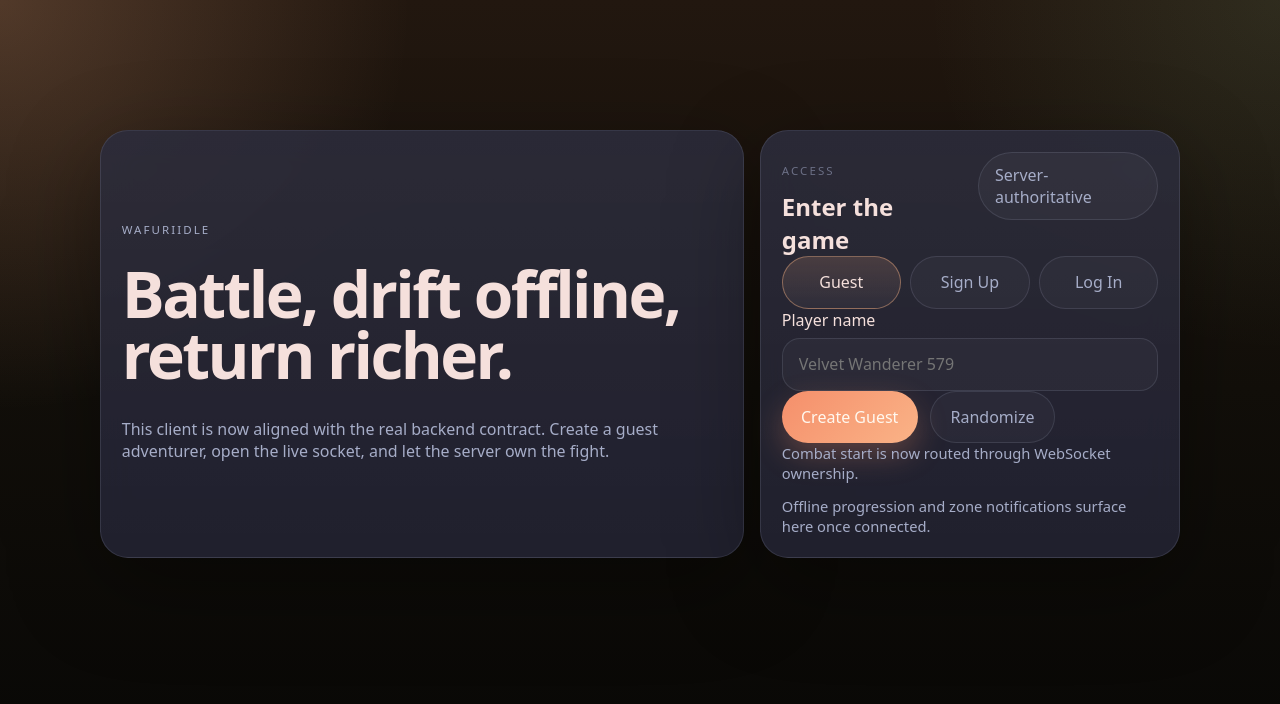
CombatScreen › shows standardized inventory empty and gacha insufficient-gold states
Type "Scout" into the field labelled "Player name" at (970, 364), box [782,338,1158,391]
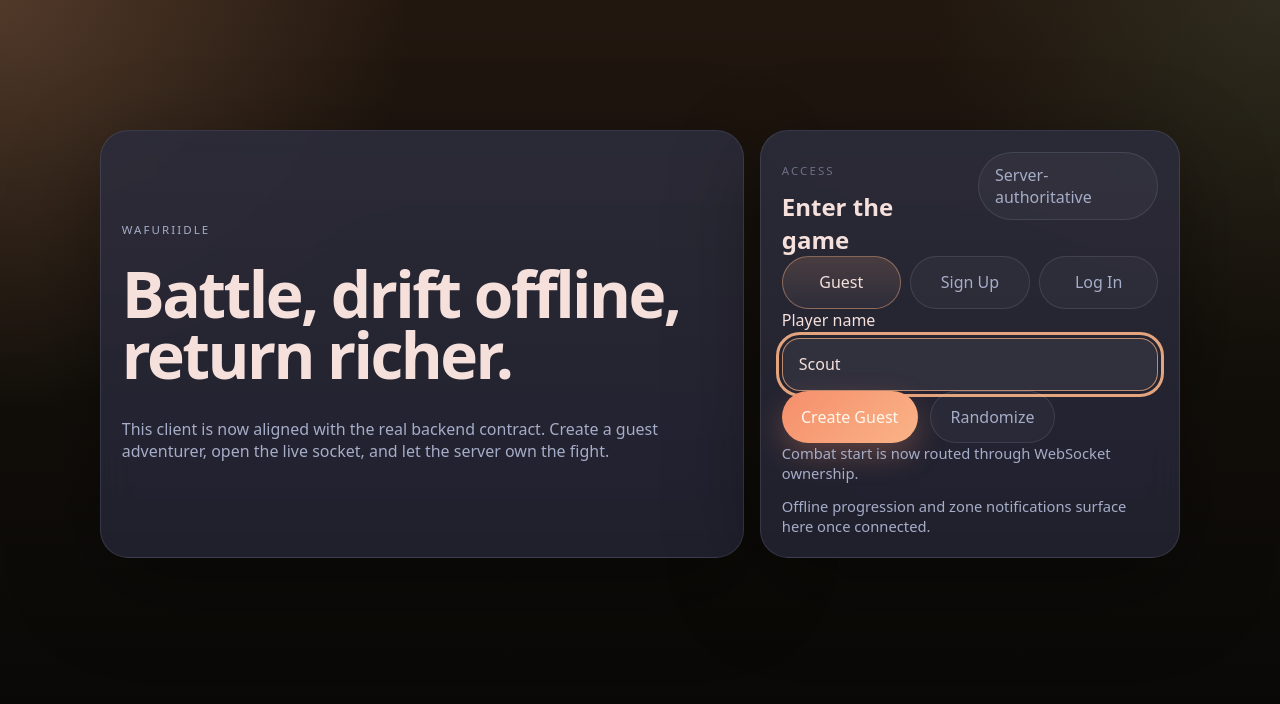
Click the button "Create Guest" at (850, 417), box [782,391,918,443]
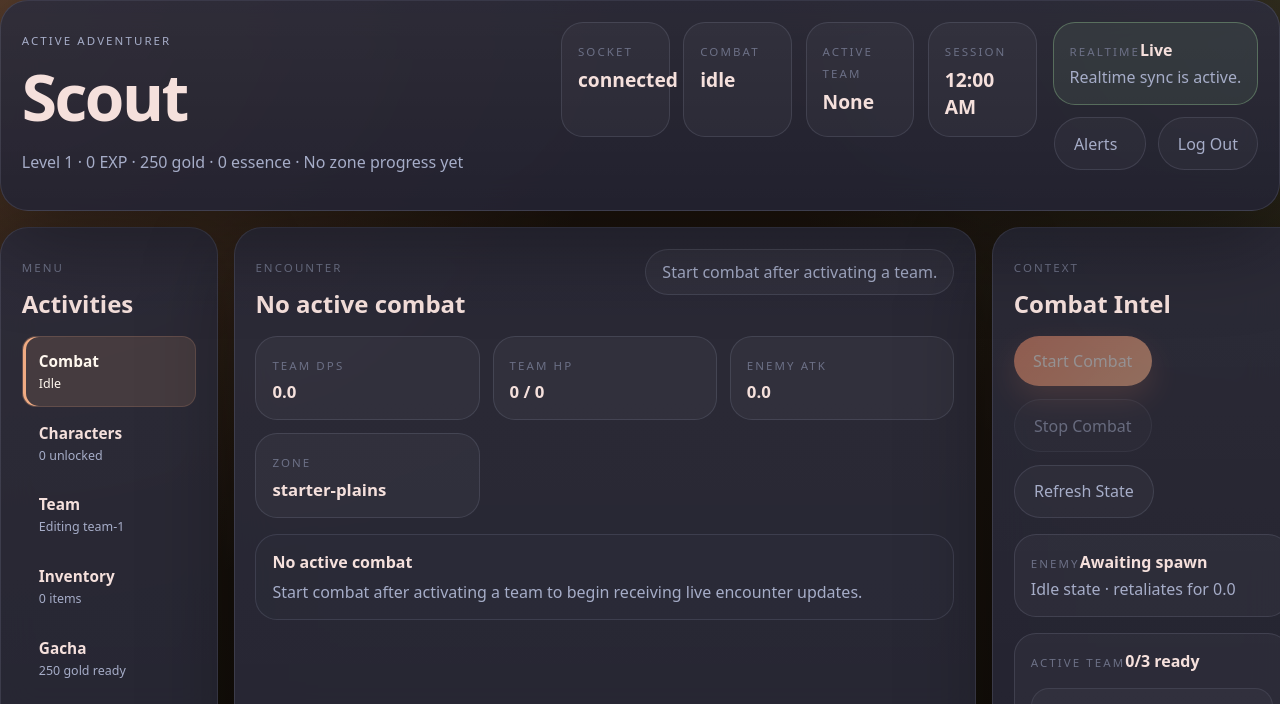
Expected: the heading "Scout" is shown, [22,53,187,140]
Click the button with aria-label "Open inventory workspace. 0 items available." at (109, 586), box [22,551,196,622]
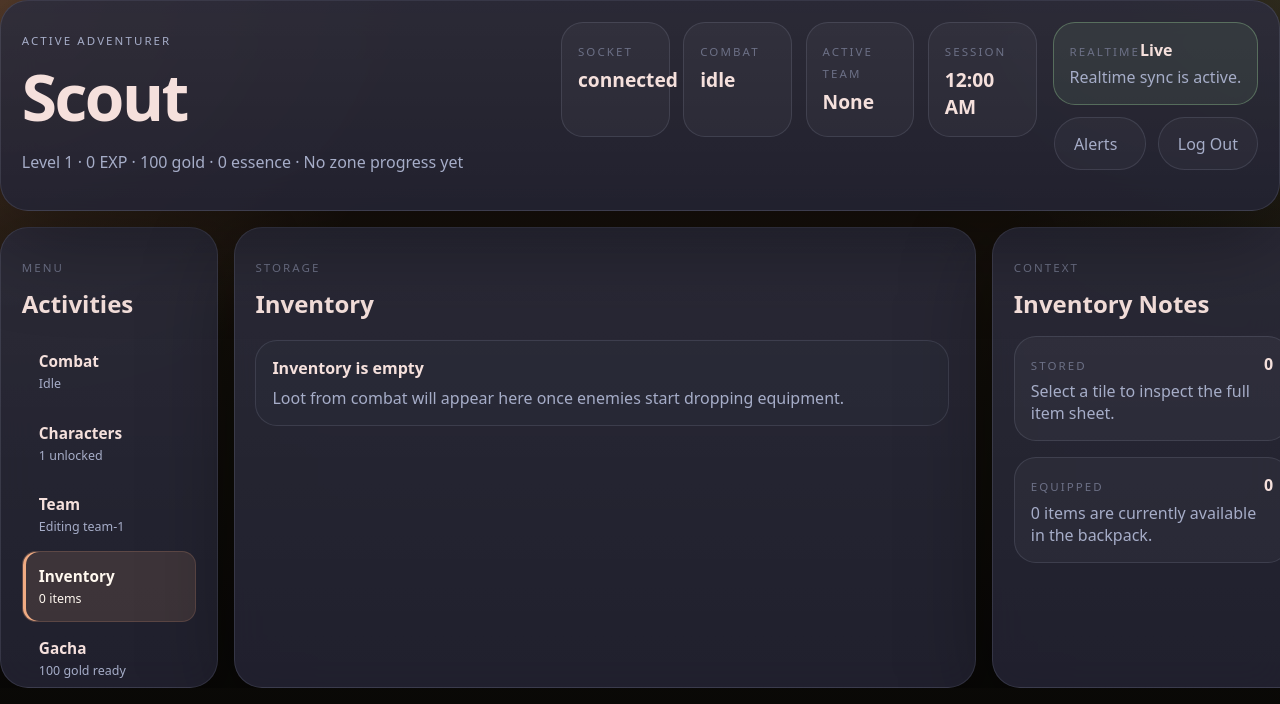
Expected: the text "Inventory is empty" is shown, [272,357,424,379]
Expected: the text "Loot from combat will appear here once enemies start dropping equipment." is shown, [272,387,932,409]
Click the button with aria-label "Open gacha workspace. 100 gold available." at (109, 658), box [22,622,196,694]
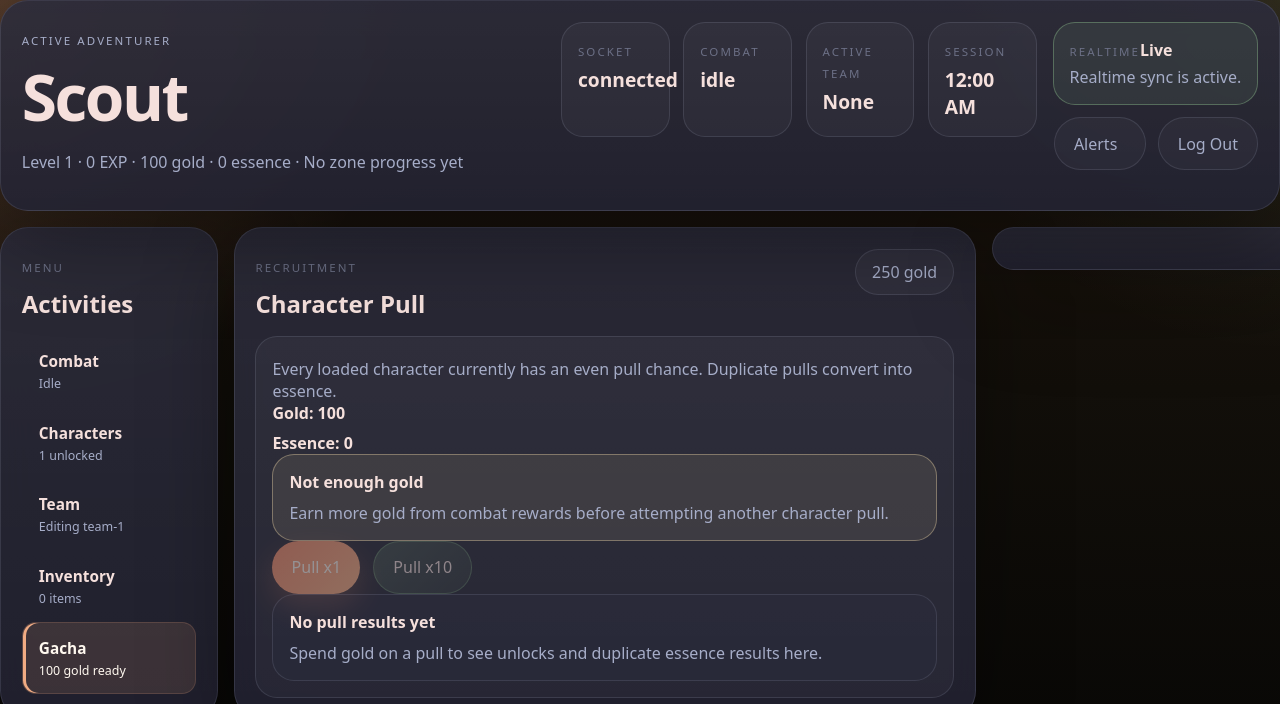
Expected: the text "Not enough gold" is shown, [289,471,424,493]
Expected: the text "Earn more gold from combat rewards before attempting another character pull." is shown, [289,502,920,524]
Expected: the button "Pull x1" is disabled, [272,541,360,594]
